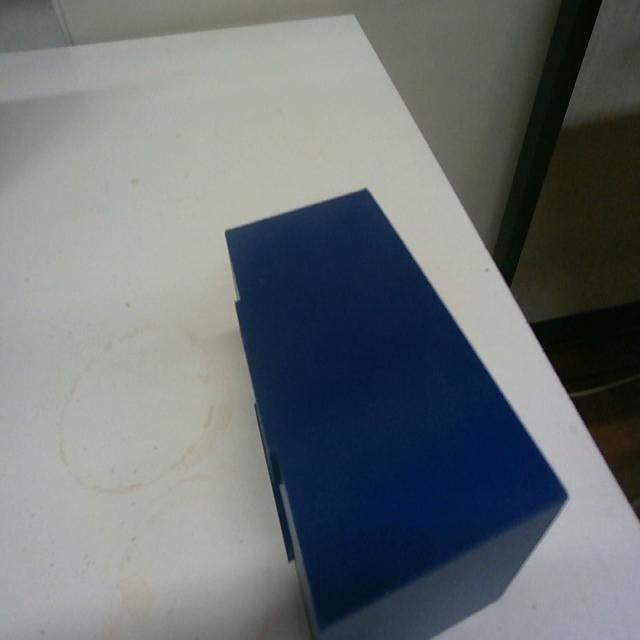Blue Cuboid: (222, 183, 570, 636)
